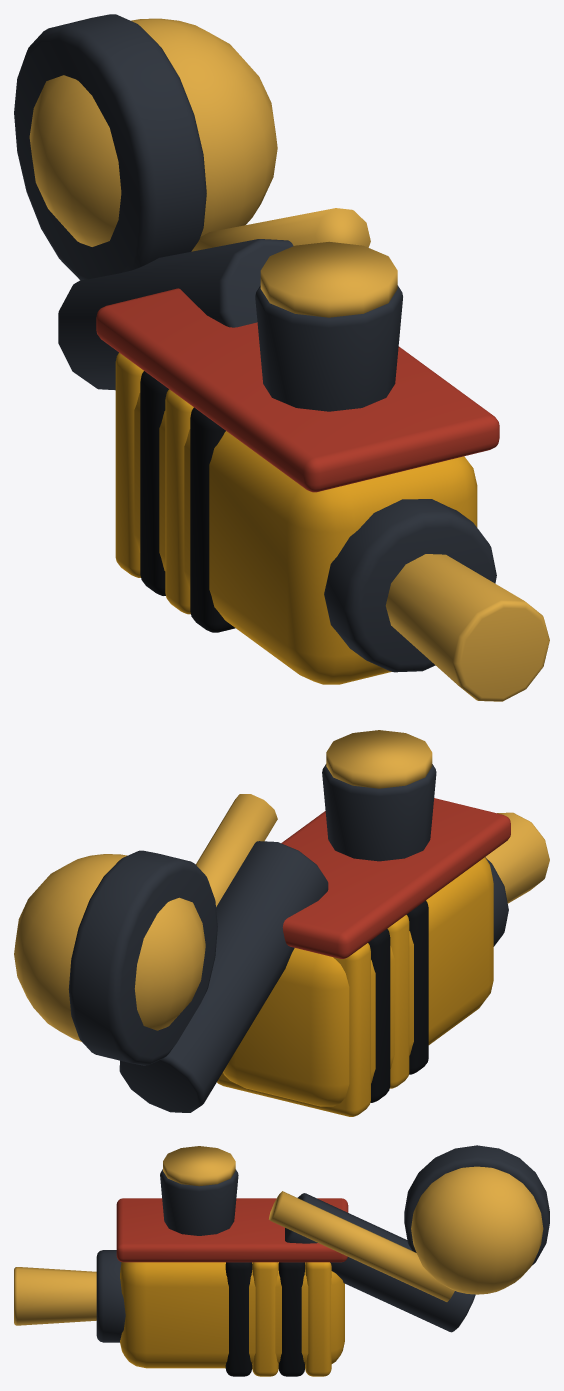
File: crew_riveter.glb
The picture shows the model from 3 angles, top to bottom: view 1: azimuth 30°, elevation 25°; view 2: azimuth 150°, elevation 25°; view 3: azimuth 270°, elevation 25°; orthographic projection. The views are drawn at different scales.
Parts seen in each view (by area): view 1: body, trim, shoulder_cap, shoulder, nozzle, nozzle_ring, hopper, upper, hopper_cap, band_3, band_0, band_1 (+2 smaller); view 2: body, upper, shoulder_cap, trim, shoulder, hopper, hopper_cap, band_0, piston, nozzle, band_1, band_2 (+2 smaller); view 3: body, shoulder, trim, piston, upper, nozzle, shoulder_cap, hopper, band_0, band_2, band_3, band_1 (+2 smaller).
Boxes of the visible parts, x1=… form: body: x1=134, y1=393, x2=477, y2=684; trim: x1=96, y1=288, x2=499, y2=492; shoulder_cap: x1=14, y1=14, x2=206, y2=279; shoulder: x1=29, y1=18, x2=277, y2=246; nozzle: x1=385, y1=554, x2=549, y2=701; nozzle_ring: x1=324, y1=499, x2=496, y2=672; hopper: x1=255, y1=285, x2=402, y2=411; upper: x1=58, y1=239, x2=293, y2=390; hopper_cap: x1=260, y1=241, x2=397, y2=317; band_3: x1=190, y1=407, x2=235, y2=632; band_0: x1=115, y1=352, x2=143, y2=577; band_1: x1=140, y1=371, x2=168, y2=595; body: x1=223, y1=857, x2=493, y2=1106; upper: x1=119, y1=841, x2=328, y2=1112; shoulder_cap: x1=68, y1=850, x2=217, y2=1065; trim: x1=281, y1=798, x2=510, y2=958; shoulder: x1=14, y1=854, x2=205, y2=1041; hopper: x1=322, y1=764, x2=436, y2=861; hopper_cap: x1=326, y1=730, x2=432, y2=788; band_0: x1=217, y1=943, x2=370, y2=1116; piston: x1=196, y1=794, x2=277, y2=906; nozzle: x1=485, y1=812, x2=549, y2=903; band_1: x1=368, y1=929, x2=390, y2=1102; band_2: x1=387, y1=915, x2=409, y2=1088; body: x1=120, y1=1262, x2=344, y2=1368; shoulder: x1=411, y1=1166, x2=543, y2=1294; trim: x1=116, y1=1198, x2=348, y2=1262; piston: x1=269, y1=1191, x2=454, y2=1301; upper: x1=285, y1=1193, x2=475, y2=1332; nozzle: x1=14, y1=1267, x2=96, y2=1325; shoulder_cap: x1=404, y1=1145, x2=549, y2=1265; hopper: x1=160, y1=1169, x2=238, y2=1235; band_0: x1=305, y1=1262, x2=331, y2=1376; band_2: x1=252, y1=1262, x2=278, y2=1376; band_3: x1=225, y1=1262, x2=252, y2=1376; band_1: x1=278, y1=1262, x2=304, y2=1376.
Size of the model in its own units: 0.27 by 0.3575 by 0.81.
